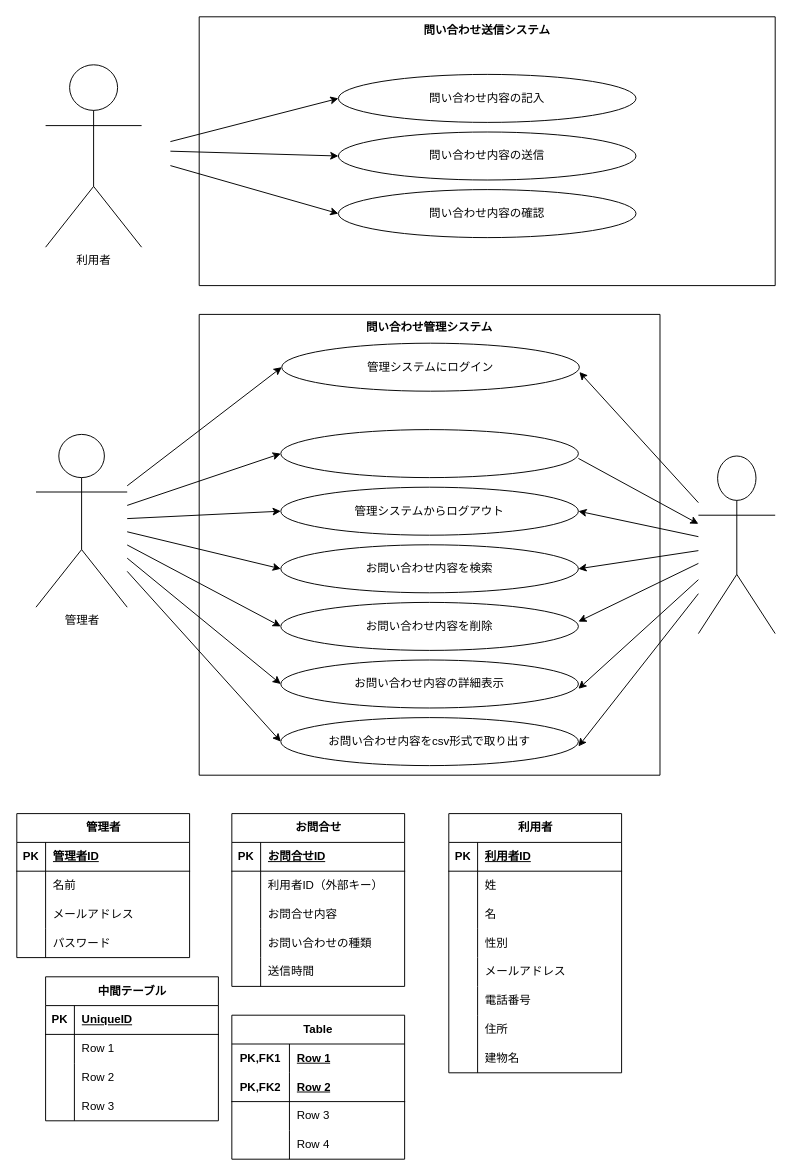
This 792x1176 diagram has some shape labels left out. The shapes that lost their labels are listed below. From the top down, each one's centre as x and y in pixels, then its label:
point (429, 453): 新規ユーザーの作成・登録
point (736, 544): 新規管理者
